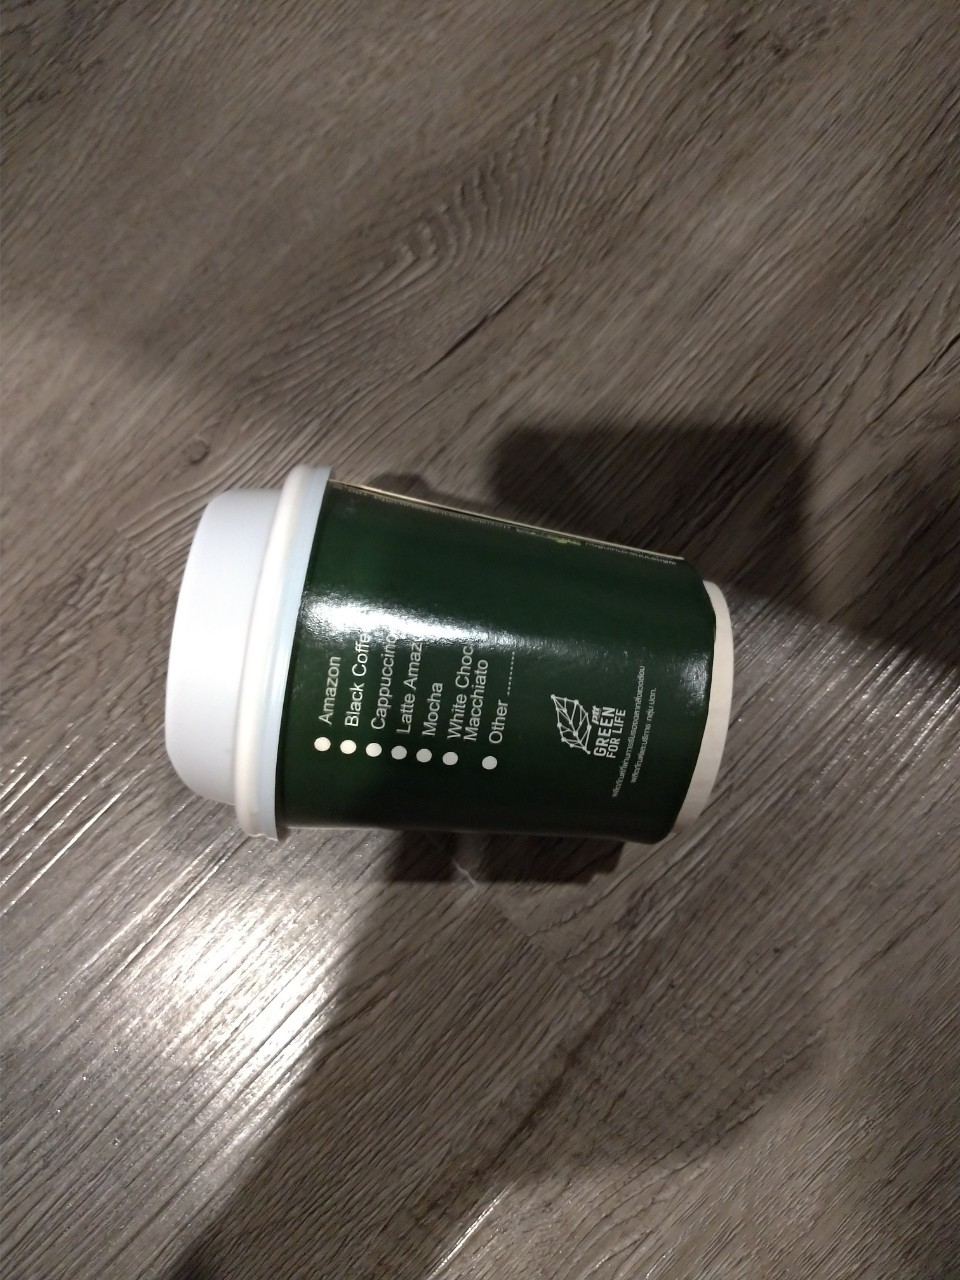PaperCup: (150, 459, 736, 865)
